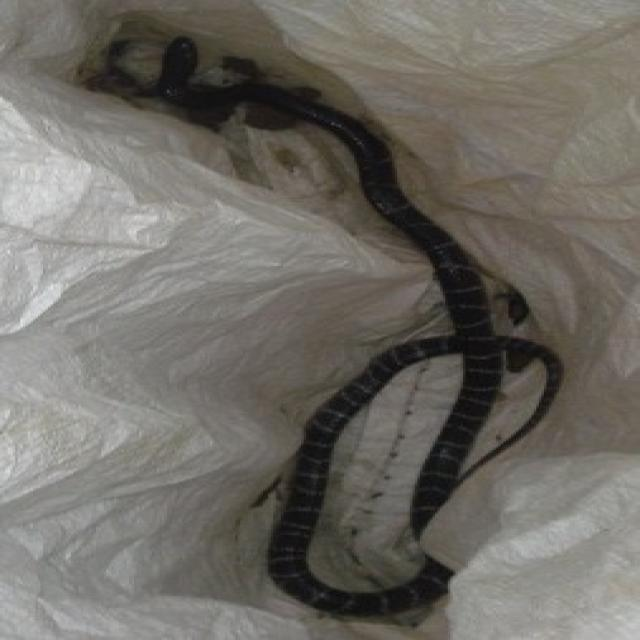Snake: (91, 33, 564, 625)
